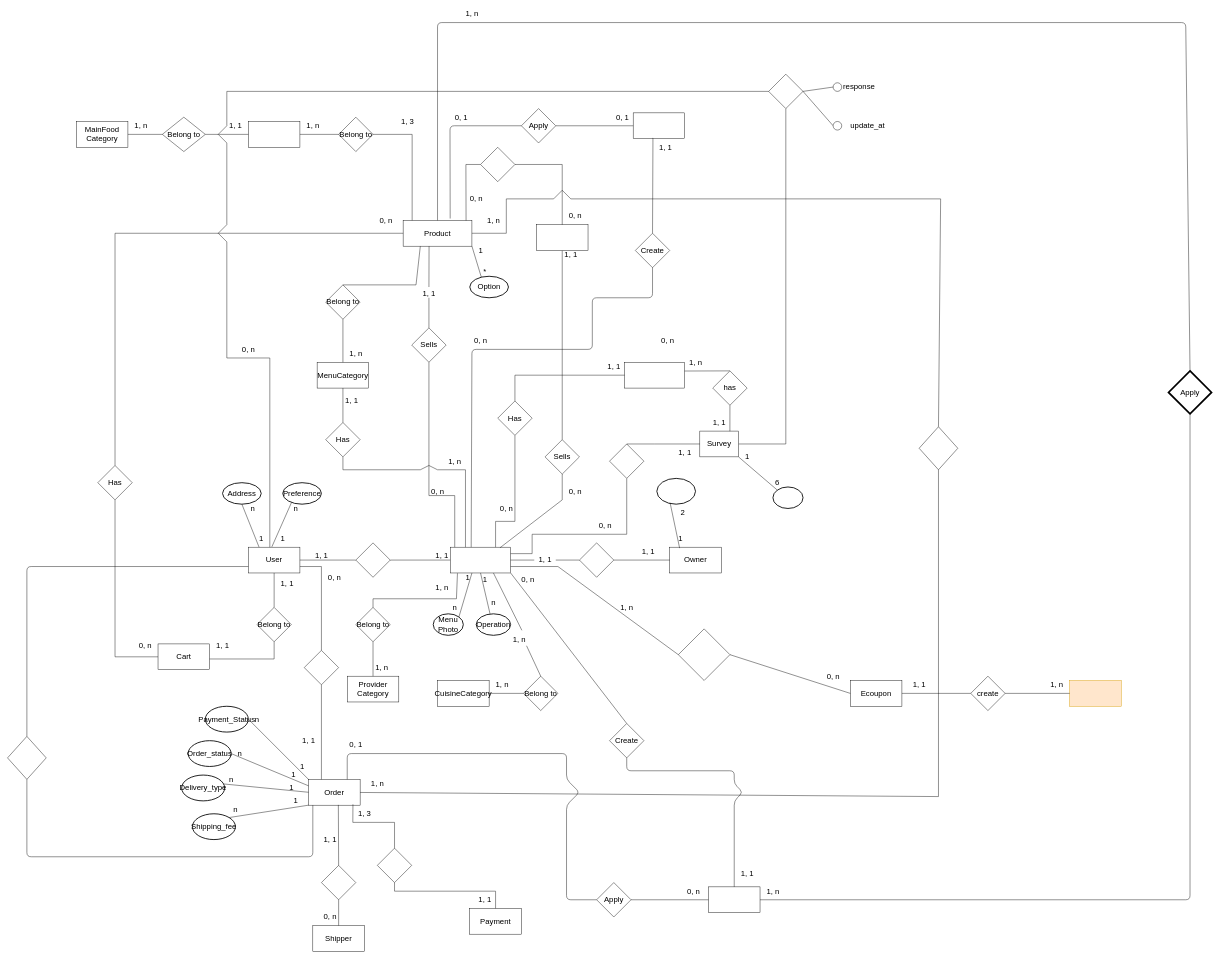
Some shapes in this 1220 by 959 pixel diagram are drawn without their labels. Each missing label, with the box of its shape:
Admin: (1069, 680, 1121, 706)
Choices: (772, 486, 803, 509)
creates: (609, 444, 644, 478)
Discount: (633, 112, 685, 139)
Food Category: (248, 121, 300, 147)
Has method: (377, 848, 412, 883)
Is part of: (919, 426, 958, 470)
owner_id_ image: (656, 478, 696, 504)
Owns: (579, 542, 614, 577)
participate: (678, 628, 730, 680)
Places: (304, 650, 339, 685)
Promotion: (708, 886, 760, 913)
Provider: (450, 547, 511, 573)
Register to: (355, 542, 390, 577)
Review: (7, 736, 46, 779)
reviews: (768, 74, 803, 109)
Shipped by: (321, 865, 356, 900)
Topping: (536, 224, 588, 250)
UpcomingProduct: (624, 362, 685, 388)
with: (480, 147, 515, 182)
